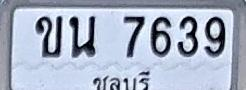3: (177, 15, 198, 57)
6: (150, 16, 171, 57)
7: (123, 15, 145, 57)
9: (204, 16, 225, 56)
A02: (35, 15, 62, 57)
A25: (68, 15, 96, 58)
CBI: (89, 69, 154, 90)
